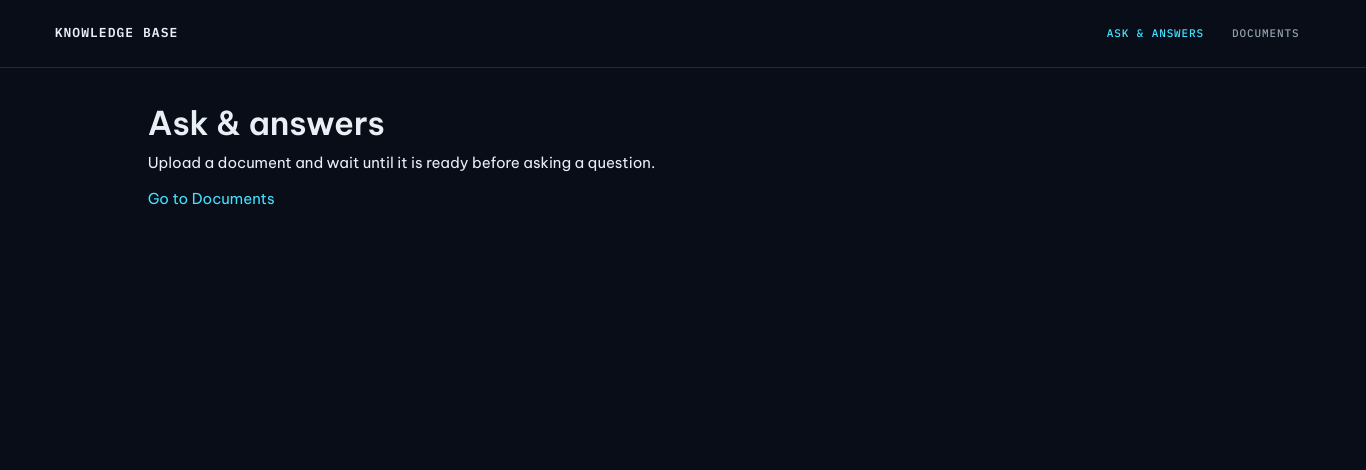
App — shell and documents › renders duplicate status without claiming a new document
This screenshot has width=1366, height=470.
Click the link "Documents". click: {"x": 1266, "y": 33}
box: [1232, 26, 1299, 40]
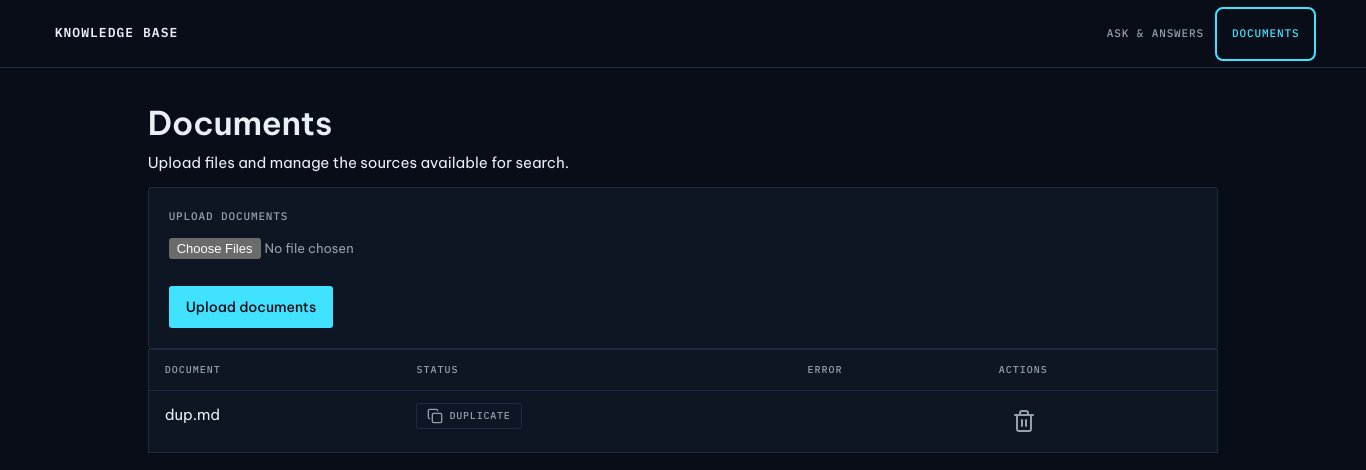
Expected: the text "Duplicate" is shown, [449, 408, 511, 424]
